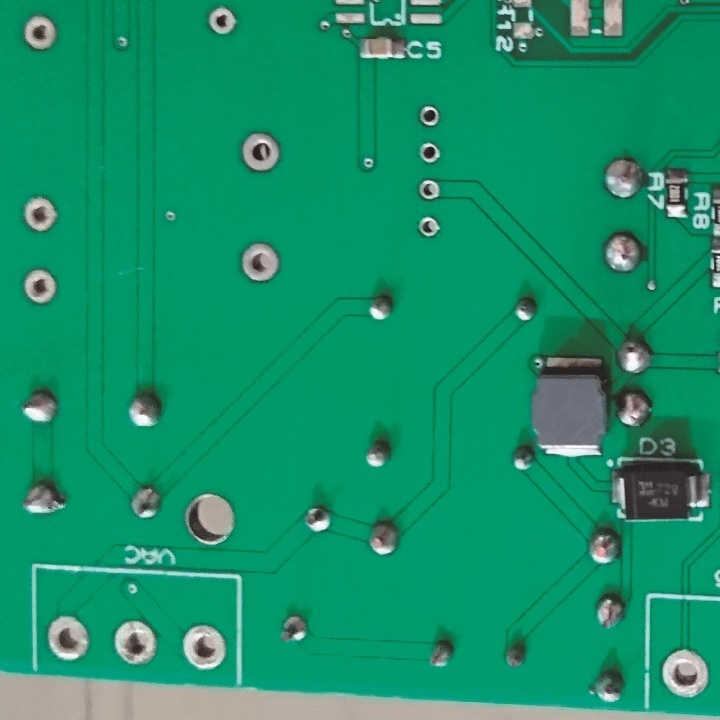F: (659, 645, 710, 703), (44, 610, 93, 664), (110, 618, 159, 668), (180, 623, 227, 673), (239, 127, 285, 177), (235, 242, 276, 284), (20, 266, 59, 307), (19, 17, 62, 54), (20, 199, 63, 236), (206, 6, 241, 38), (415, 140, 445, 166), (415, 179, 446, 204), (416, 102, 444, 129), (415, 217, 441, 240)
